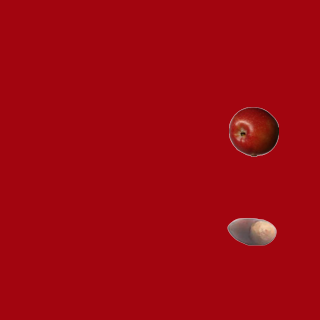Apple Braeburn: (228, 106, 278, 156)
Hazelnut: (226, 206, 276, 256)
